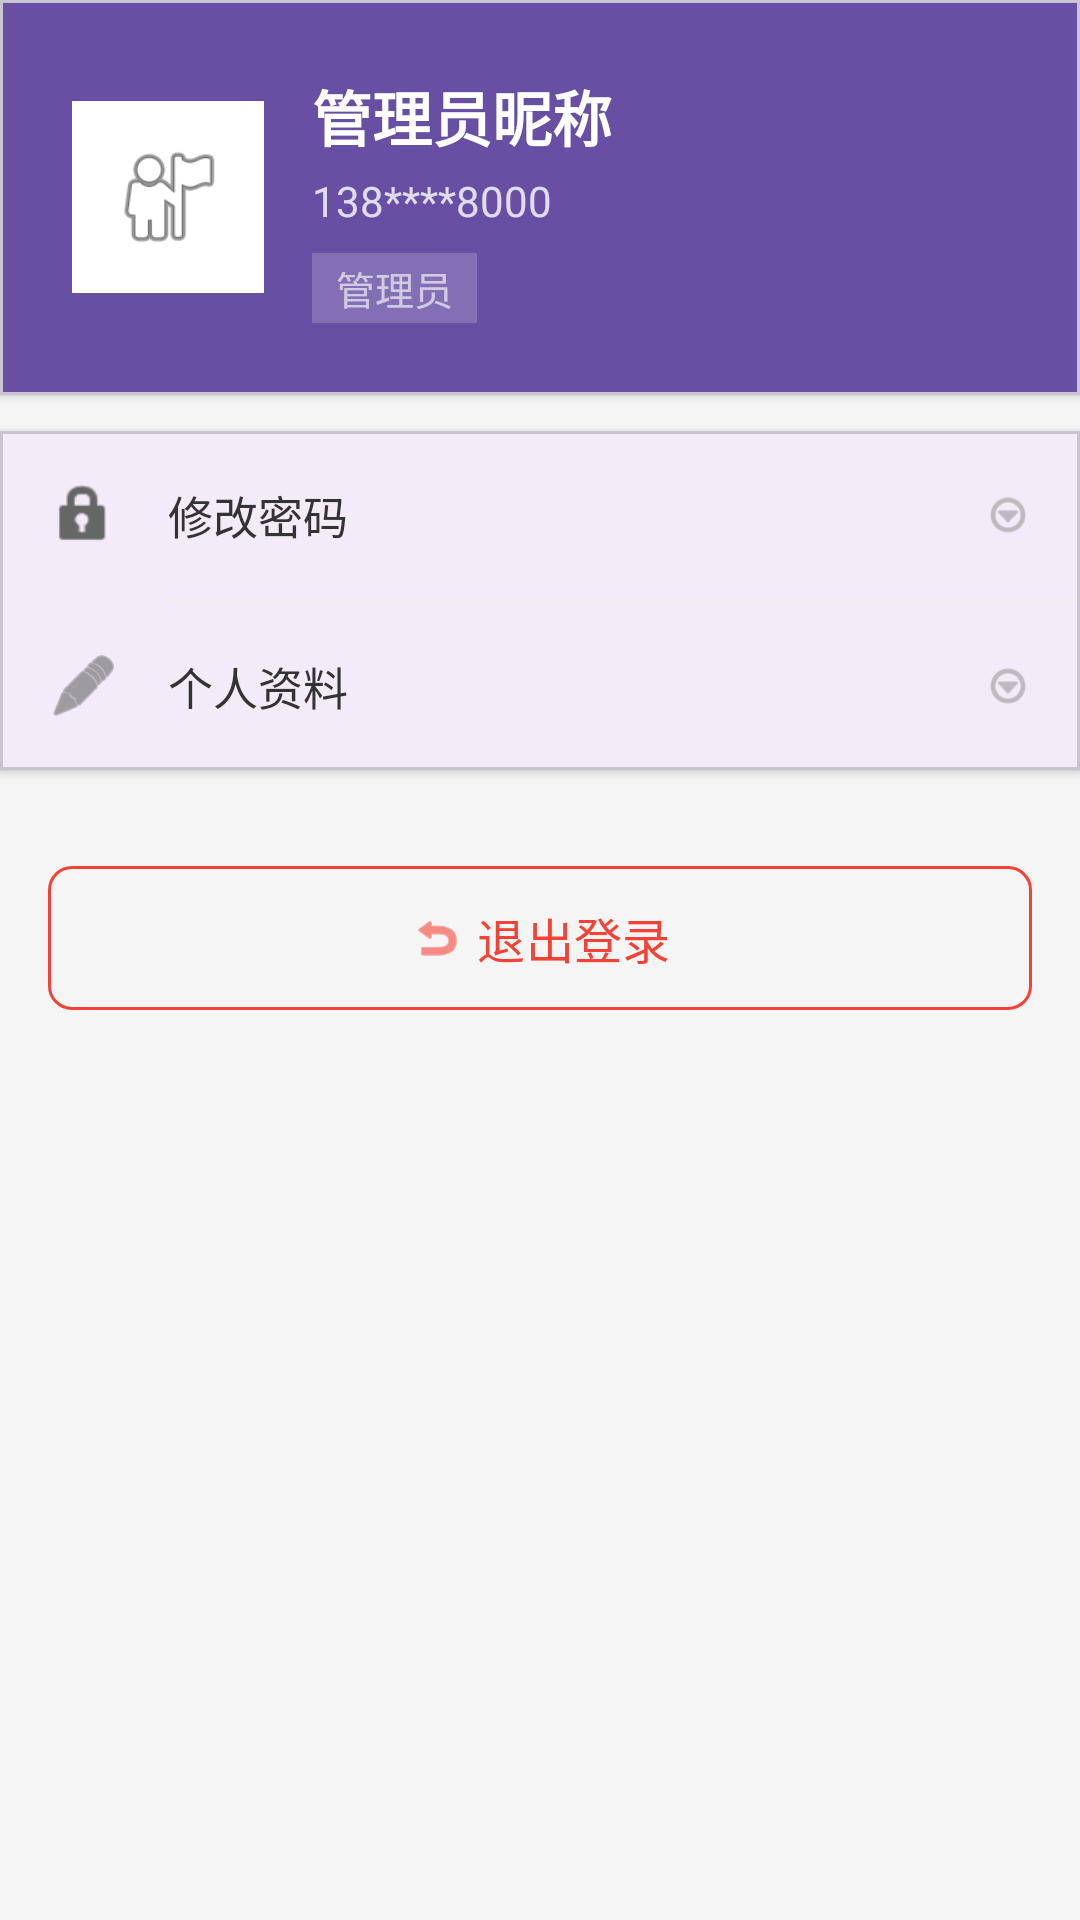

Screen size 1080w x 1920h. Icon name, then its box in pixels as (x1, y1, x2, y2):
更多: (990, 498, 1026, 533), (990, 669, 1026, 703)
